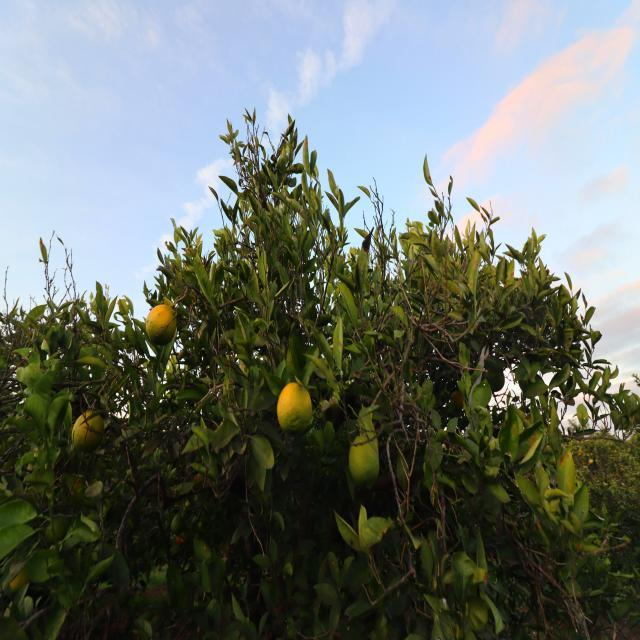Jeruk Belum Matang: (276, 382, 314, 433), (349, 436, 381, 486), (146, 304, 178, 346), (73, 412, 105, 454), (46, 516, 68, 542)
